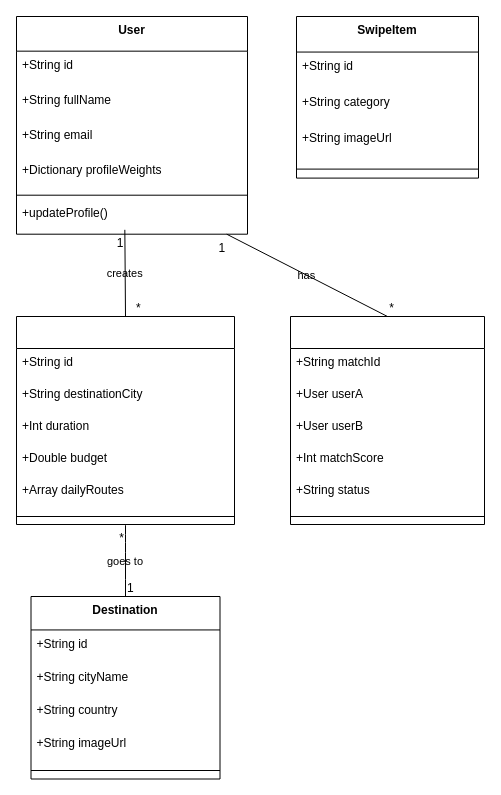
This 501x795 diagram has some shape labels left out. Here are the shapes that lost their labels. From the top down, the box of each, then its label:
(16, 316, 234, 524): TripPlan
(290, 316, 484, 524): TravelerMatch
